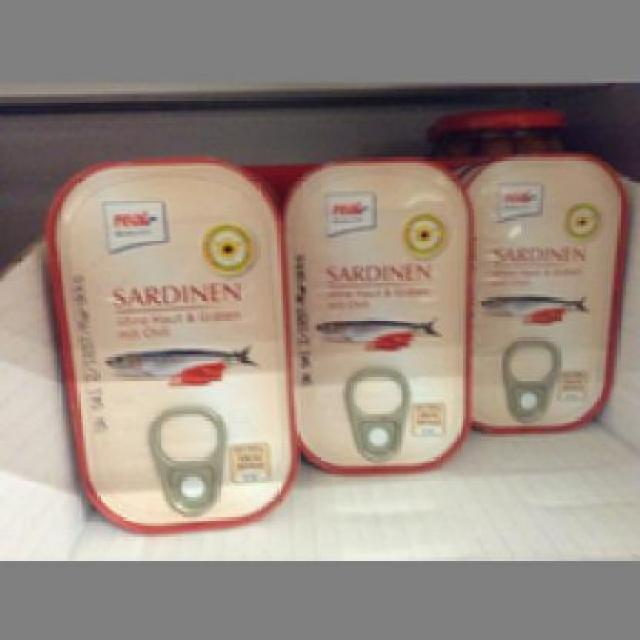Fish: (42, 157, 288, 532), (283, 157, 466, 474), (463, 148, 626, 432)
